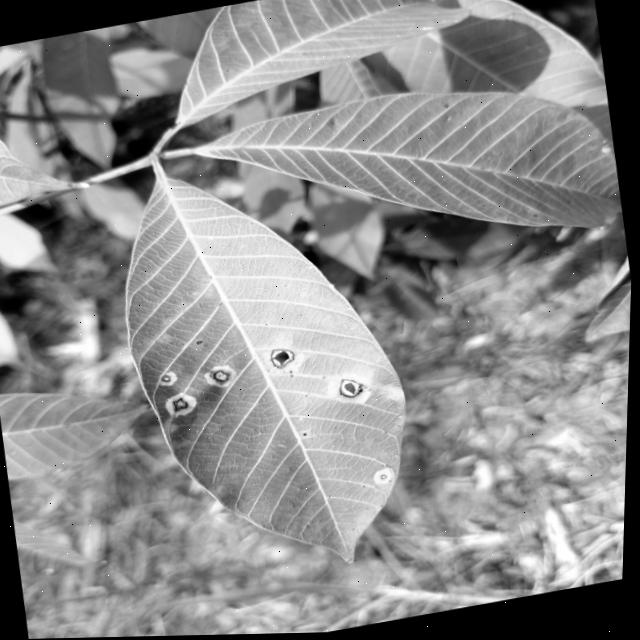Colletotrichum: (268, 348, 298, 372), (340, 379, 366, 401), (213, 370, 232, 384), (174, 398, 190, 412), (163, 376, 173, 383), (383, 477, 389, 482), (198, 342, 202, 346), (296, 441, 299, 443), (306, 435, 308, 437)
